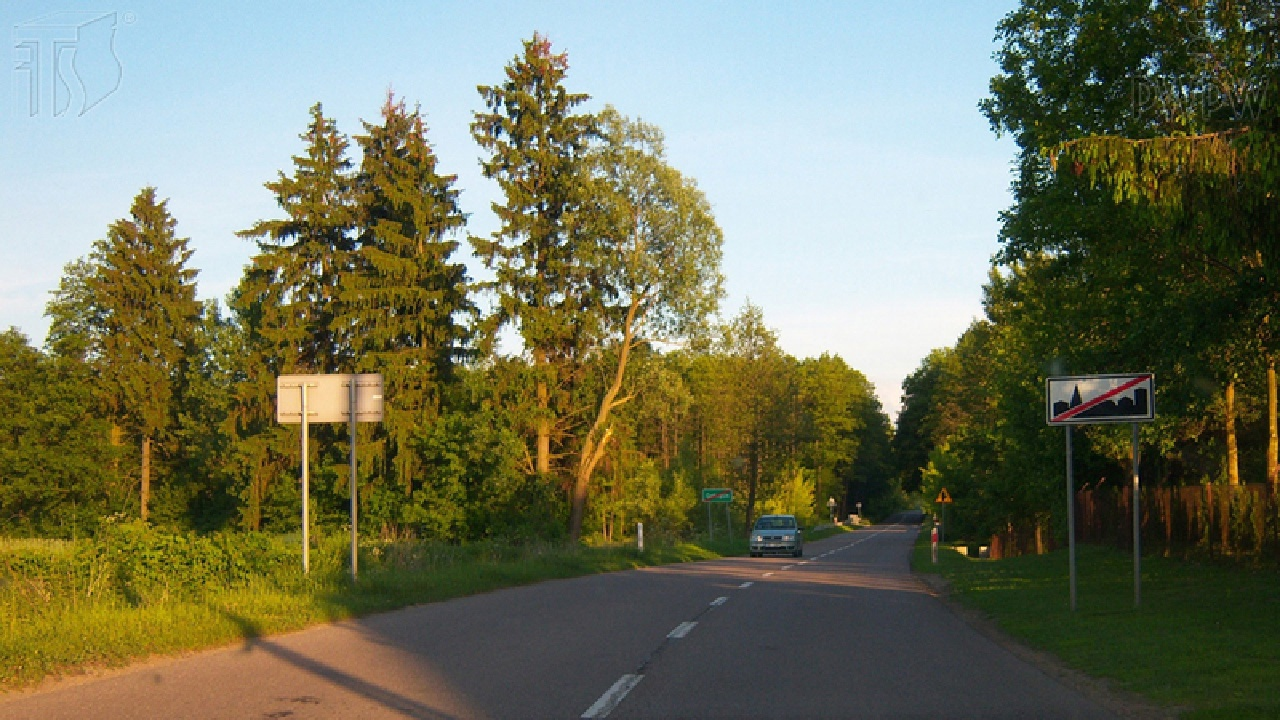D43: (1045, 372, 1156, 426)
